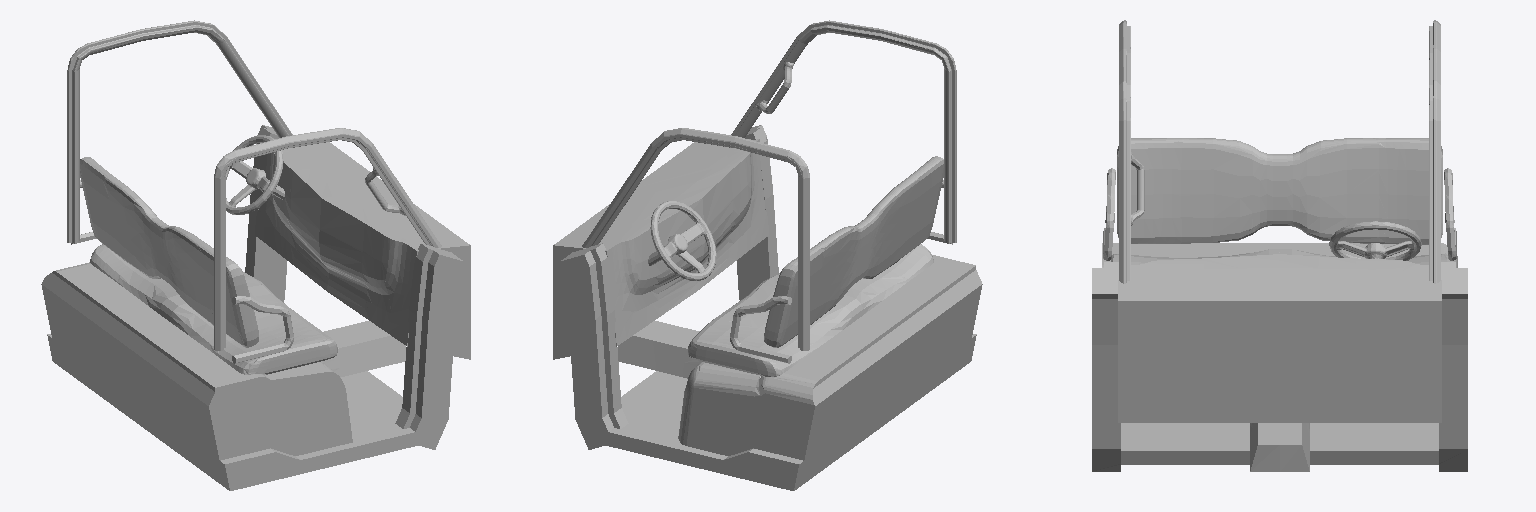
URDF robot description (PolarisRanger900XP):
<robot
  name="PolarisRanger900XP">
 

<link name="vehicle_base">
    <visual>
      <geometry>
        <cylinder length="0.0" radius="0.0"/>
      </geometry>
    </visual>
  </link>
 
  <!-- Polaris chassis (main link) -->
  <link
    name="Chassis">
    <visual>
      <origin
        xyz="0 0 0"
        rpy="0 0 0" />
      <geometry>
        <mesh
          filename="package://PolarisRanger900XP/meshes/polarischassis.stl" />
      </geometry>
      <material
        name="">
        <color
          rgba="0.75294 0.75294 0.75294 1" />
      </material>
    </visual>
    <collision>
      <origin
        xyz="0 0 0"
        rpy="0 0 0" />
      <geometry>
        <mesh
          filename="package://PolarisRanger900XP/meshes/polarischassis.stl" />
      </geometry>
    </collision>
  </link>
  <joint name="vehicle_move" type="planar">
        <parent link="vehicle_base"/>
        <child link="Chassis"/>
        <origin rpy="0 0 0" xyz="0.0 0 0.0"/>
        <axis xyz="0 0 1.0"/>
         <limit effort="25" lower="-1.06813521904" upper="1.06814778541" velocity="6.28318530718"/>
    </joint>
  <!-- Steering wheel link -->
  <link
    name="SteeringWheel">
    <visual>
      <origin
        xyz="0 0 0"
        rpy="0 0 0" />
      <geometry>
        <mesh
          filename="package://PolarisRanger900XP/meshes/steeringwheel.stl" />
      </geometry>
      <material
        name="">
        <color
          rgba="0.75294 0.75294 0.75294 1" />
      </material>
    </visual>
    <collision>
      <origin
        xyz="0 0 0"
        rpy="0 0 0" />
      <geometry>
        <mesh
          filename="package://PolarisRanger900XP/meshes/steeringwheel.stl" />
      </geometry>
    </collision>
  </link>
  
  <!-- Steering wheel rotation joint.
       There's probably an upper and lower rotation limit
	   but just allow it to rotate freely. -->
  <joint
	name="STW"
	type="continuous">
	<origin
	  xyz="0.267992 0.394955 1.01608"
	  rpy="0 -0.898844 0" /> <!-- Change pitch value to change steering wheel pitch -->
	<parent
	  link="Chassis" />
	<child
	  link="SteeringWheel" />
	<axis
	  xyz="0 0 1" />
  </joint>
</robot>

--- What the picture shows (computed from the rendered views, not written in the file) ---
3 views of the same robot in one strip: view 1: azimuth 30°, elevation 25°; view 2: azimuth 150°, elevation 25°; view 3: azimuth 270°, elevation 25° (orthographic).
Model PolarisRanger900XP with 3 links and 2 joints (1 continuous, 1 planar), rooted at vehicle_base, posed every joint at zero.
Visible links, largest first — view 1: Chassis, SteeringWheel; view 2: Chassis, SteeringWheel; view 3: Chassis, SteeringWheel.
Link boxes in pixels (bbox=[...]): Chassis: bbox=[41, 20, 470, 490]; SteeringWheel: bbox=[226, 135, 284, 214]; Chassis: bbox=[553, 20, 982, 490]; SteeringWheel: bbox=[648, 201, 716, 280]; Chassis: bbox=[1092, 20, 1467, 471]; SteeringWheel: bbox=[1329, 221, 1421, 260].
Size in the robot's own frame: 1.36 by 1.56 by 1.87 metres.
2 mesh visuals loaded from 2 distinct referenced files (2 binary STL).